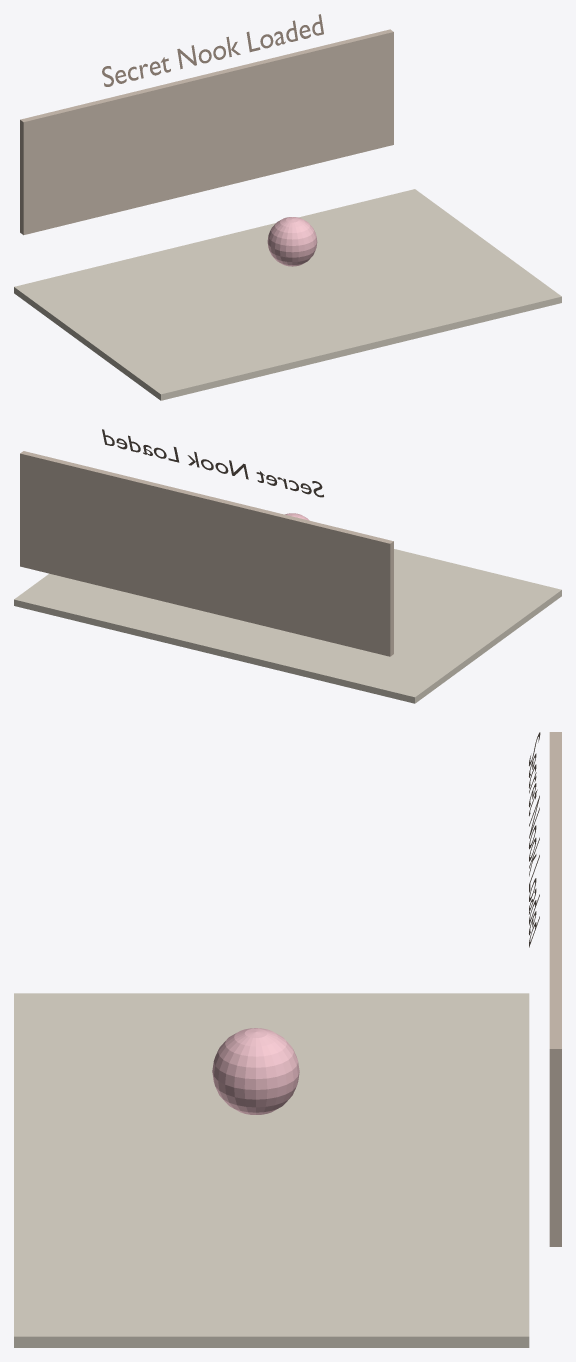
File: 11_sub_scenes_nook.glb
3 views of the same model, one above another, from view 1: azimuth 30°, elevation 25°; view 2: azimuth 150°, elevation 25°; view 3: azimuth 270°, elevation 25° (orthographic). The views are drawn at different scales.
Visible parts, largest first — view 1: PaperFloor-col, BackCard, NookGem, TitleLabel; view 2: BackCard, PaperFloor-col, TitleLabel; view 3: PaperFloor-col, BackCard, NookGem, TitleLabel.
Part boxes in pixels (bbox=[...]): PaperFloor-col: bbox=[14, 189, 561, 400]; BackCard: bbox=[20, 29, 393, 235]; NookGem: bbox=[267, 217, 317, 266]; TitleLabel: bbox=[102, 14, 323, 86]; BackCard: bbox=[20, 451, 393, 656]; PaperFloor-col: bbox=[14, 549, 561, 703]; TitleLabel: bbox=[102, 429, 323, 497]; PaperFloor-col: bbox=[14, 993, 529, 1347]; BackCard: bbox=[549, 732, 561, 1246]; NookGem: bbox=[212, 1028, 299, 1114]; TitleLabel: bbox=[529, 732, 540, 947].
Bounding box in the file's own units: 5.2 × 2.5 × 3.51.
